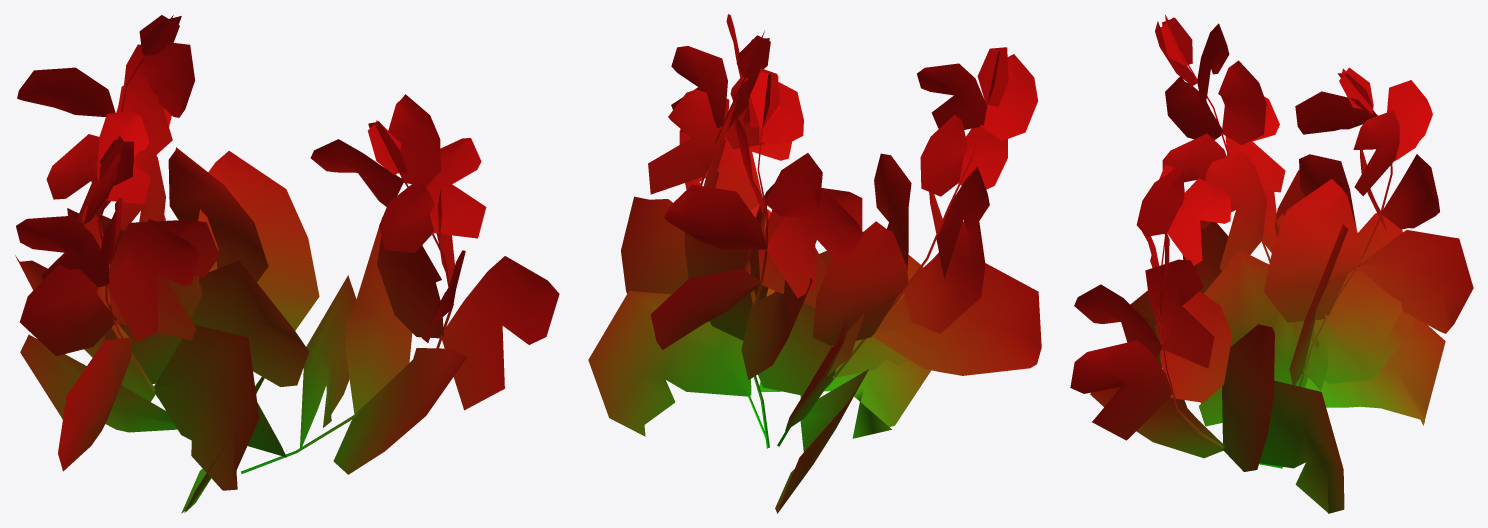
Rendered from White Ramping Fumitory_LOD2_Var2_ti4efc3ia.fbx.
3 views of the same model, side by side, from view 1: azimuth 30°, elevation 25°; view 2: azimuth 150°, elevation 25°; view 3: azimuth 270°, elevation 25° (orthographic). The views are drawn at different scales.
Parts seen in each view (by area): view 1: _ba05_Var2_LOD2; view 2: _ba05_Var2_LOD2; view 3: _ba05_Var2_LOD2.
Part boxes in pixels (box(x1,y1,x2,y2)): _ba05_Var2_LOD2: box(15, 15, 559, 513); _ba05_Var2_LOD2: box(588, 14, 1041, 513); _ba05_Var2_LOD2: box(1070, 14, 1473, 513).
Bounding box in the file's own units: 82.85 × 79.59 × 75.84.
